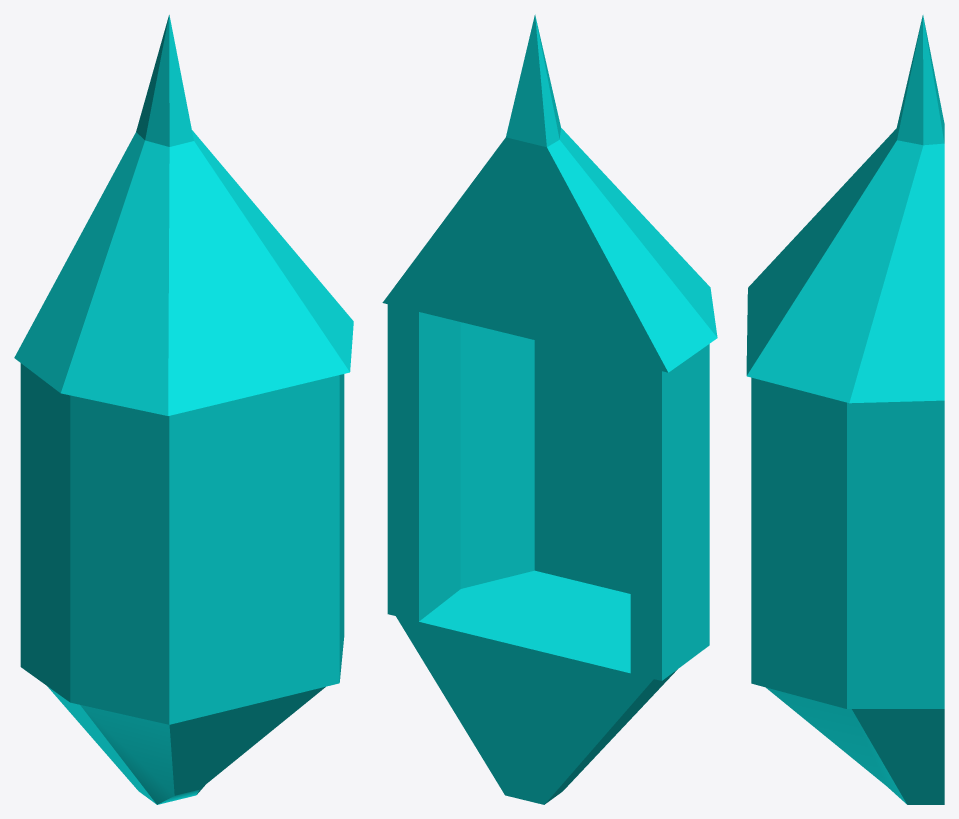
Rendered from SM_Bld_Balcony_01_Collision.fbx.
3 renders of one model, left to right at view 1: azimuth 30°, elevation 25°; view 2: azimuth 150°, elevation 25°; view 3: azimuth 270°, elevation 25°, orthographic.
Parts seen in each view (by area): view 1: SM_Bld_Balcony_01_Collision; view 2: SM_Bld_Balcony_01_Collision; view 3: SM_Bld_Balcony_01_Collision.
Part boxes in pixels (x1=…): SM_Bld_Balcony_01_Collision: x1=14, y1=15, x2=353, y2=804; SM_Bld_Balcony_01_Collision: x1=382, y1=14, x2=717, y2=804; SM_Bld_Balcony_01_Collision: x1=746, y1=15, x2=944, y2=804.
Bounding box in the file's own units: 284 × 720 × 165.
